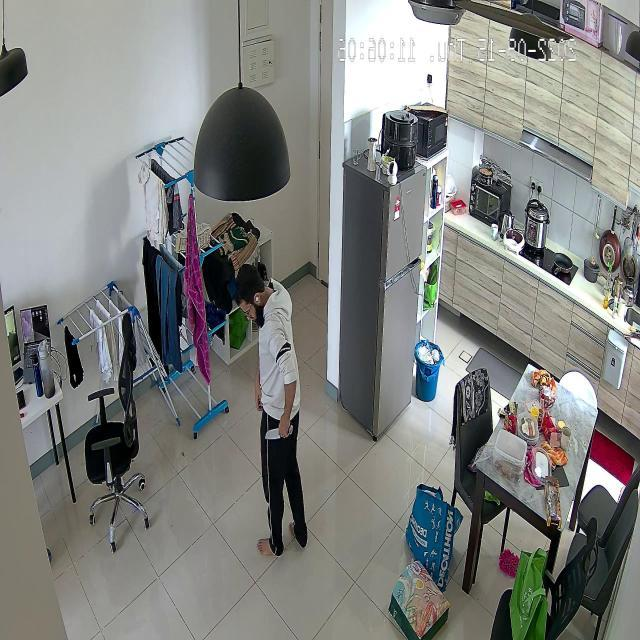Knife: (251, 416, 303, 453)
